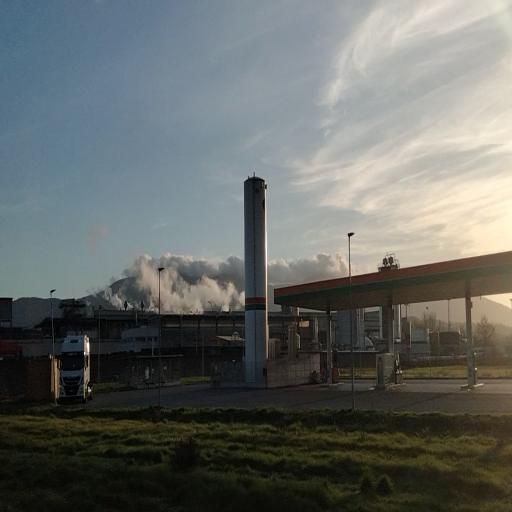leakage: (130, 255, 247, 318), (85, 270, 150, 314)
